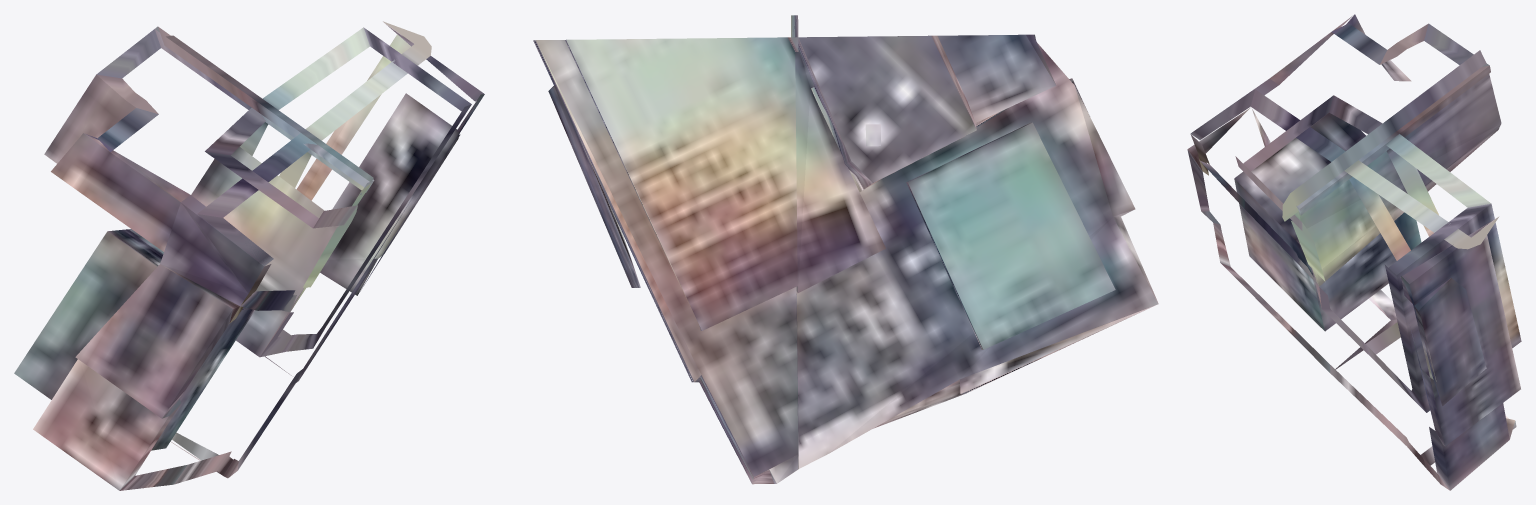
The picture shows the model from 3 angles, left to right: view 1: azimuth 30°, elevation 25°; view 2: azimuth 150°, elevation 25°; view 3: azimuth 270°, elevation 25°; orthographic projection. The views are drawn at different scales.
Bounding box in the file's own units: 27.01 × 23.02 × 16.8.
Materials: 1 (1 with a texture image).
